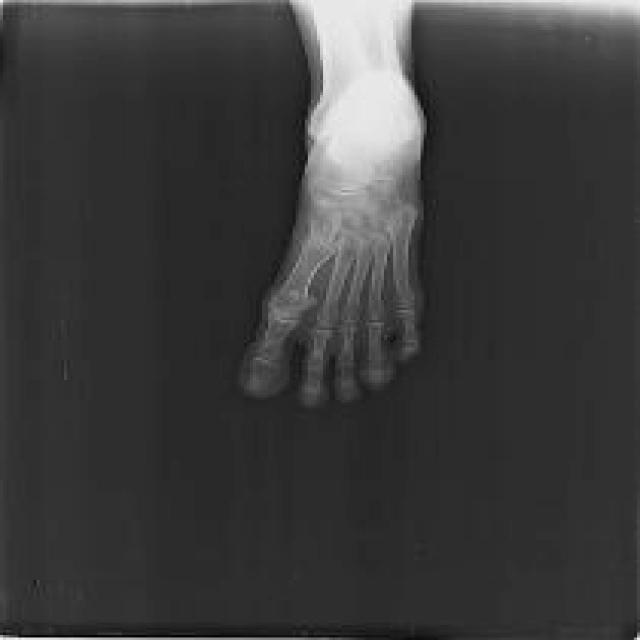normal: (245, 0, 416, 399)
